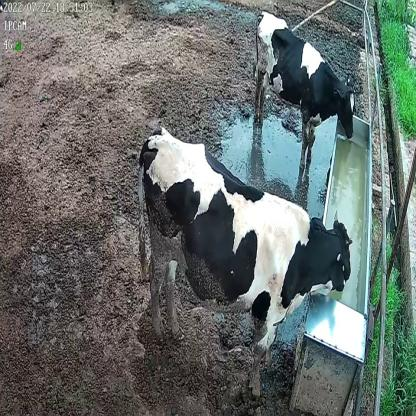cow: (136, 127, 354, 396), (252, 9, 356, 172)
